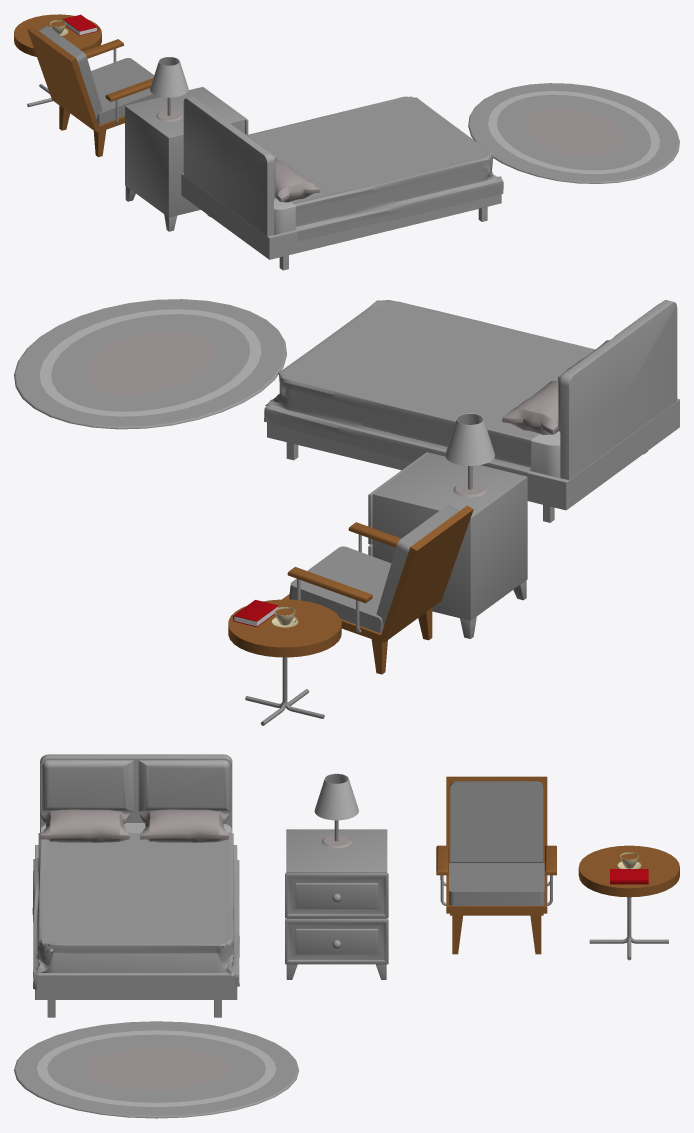
Rendered from yatak_odası5.fbx.
3 renders of one model, top to bottom at view 1: azimuth 30°, elevation 25°; view 2: azimuth 150°, elevation 25°; view 3: azimuth 270°, elevation 25°, orthographic. The views are drawn at different scales.
Visible parts, largest first — view 1: Plane.004, Circle.001, Plane.005, Cube.001, Circle.004, Circle; view 2: Plane.004, Circle.001, Cube.001, Plane.005, Circle.004, Circle; view 3: Plane.004, Circle.001, Plane.005, Cube.001, Circle.004, Circle.
Boxes of the visible parts, box(x1,y1,x2,y2) form: Plane.004: box(181, 96, 503, 270); Circle.001: box(468, 83, 679, 183); Plane.005: box(27, 25, 160, 157); Cube.001: box(125, 87, 248, 231); Circle.004: box(14, 14, 101, 106); Circle: box(150, 57, 188, 121); Plane.004: box(264, 300, 679, 522); Circle.001: box(14, 299, 286, 429); Cube.001: box(368, 452, 527, 638); Plane.005: box(282, 505, 473, 674); Circle.004: box(228, 599, 341, 725); Circle: box(445, 413, 494, 497); Plane.004: box(32, 754, 239, 1017); Circle.001: box(14, 1021, 299, 1118); Plane.005: box(436, 776, 556, 954); Cube.001: box(285, 829, 388, 979); Circle.004: box(578, 845, 679, 960); Circle: box(314, 773, 358, 848).
Size of the model in its own units: 1212 by 389 by 1317.
